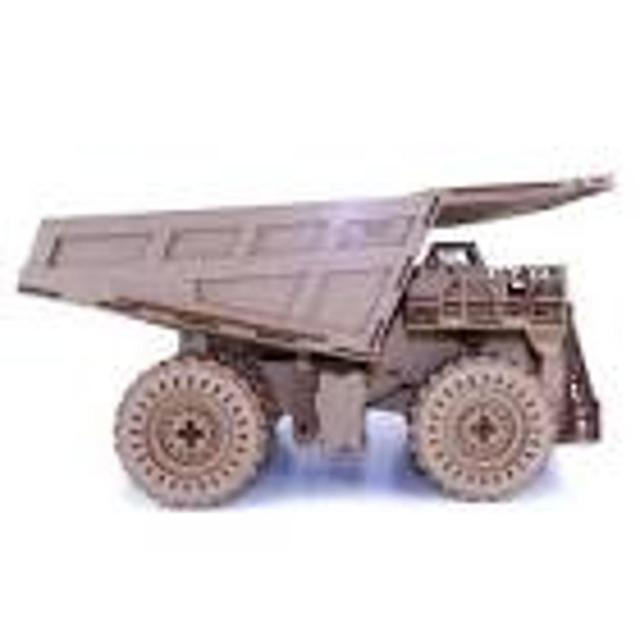dump_truck: (17, 167, 622, 506)
